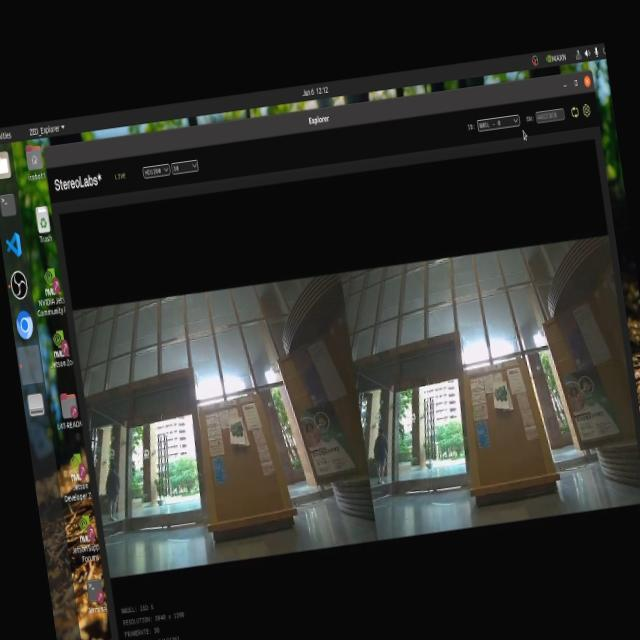green: (226, 420, 250, 448), (494, 380, 506, 409)
